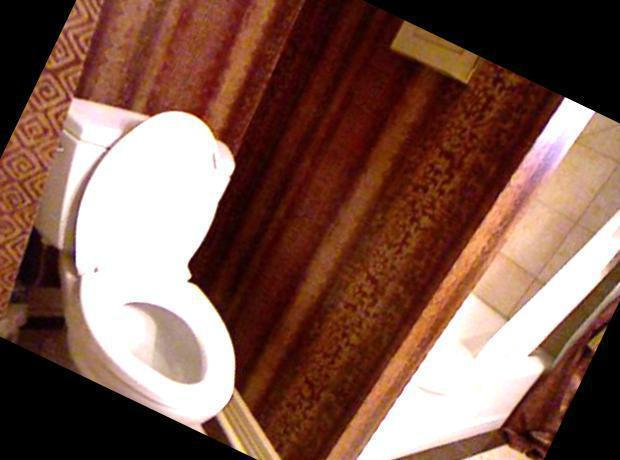Sanitario: (0, 60, 338, 438)
